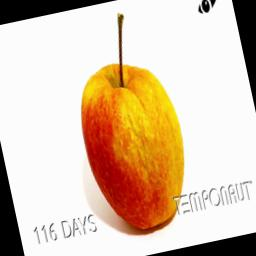Apple Unripe: (55, 0, 201, 242)
